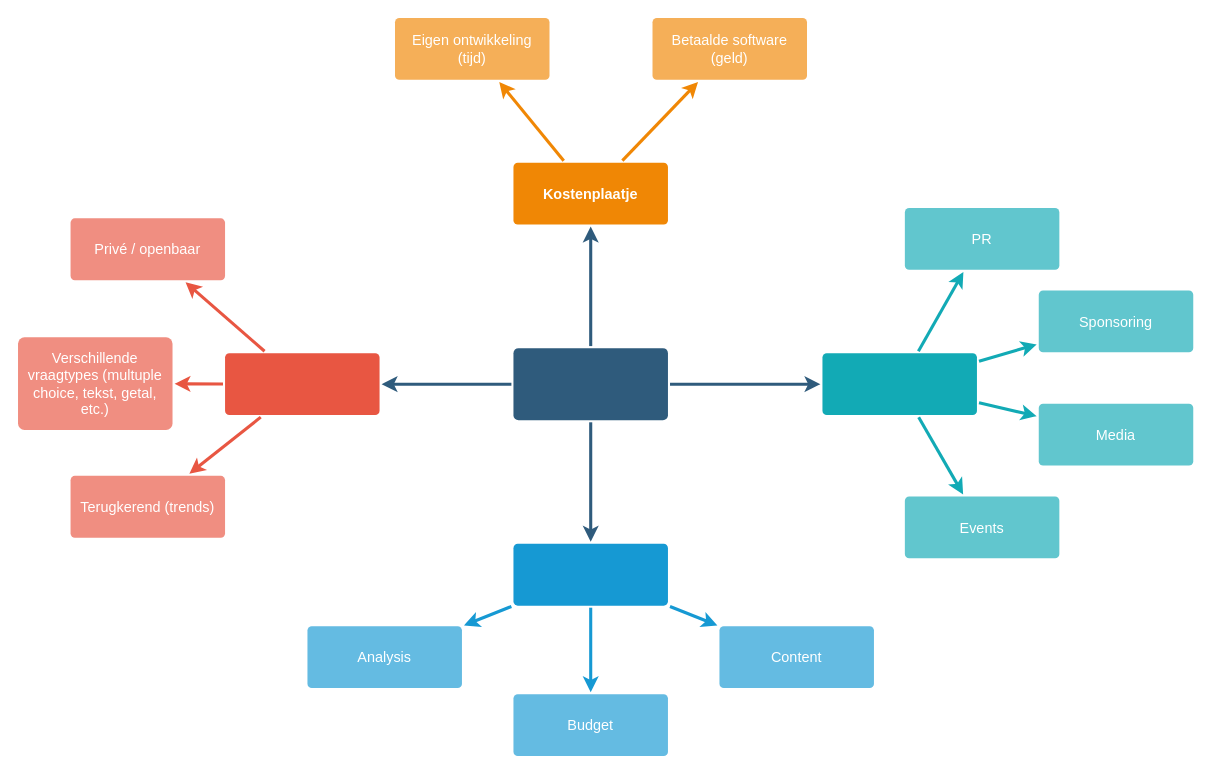
The diagram is 1210 pixels wide and 774 high, and some of its shapes have lost their labels. The centre of each missing label's shape, as x and y in pixels:
"Communication" belongs at [899,384].
"Functionaliteit" belongs at [302,384].
"Onderzoekstooling binnen het CBS" belongs at [590,384].
"Organization" belongs at [590,574].
